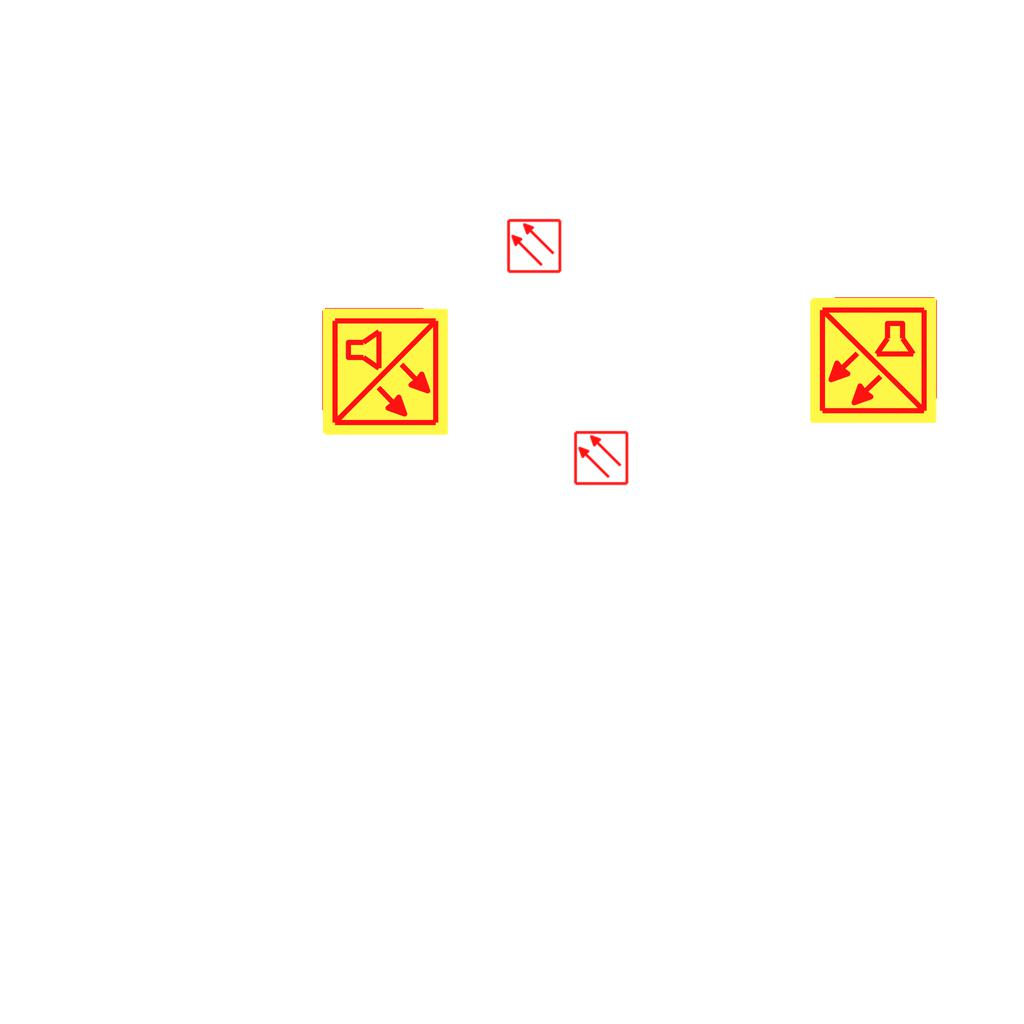OKW_Multisensormelder_(Kombination_optischer_Rauch-Kahlenmonoxid_Waerme-Melder): (319, 306, 451, 438), (807, 294, 939, 426)
RMO_Rauchmelder_optischer: (573, 430, 629, 486), (506, 218, 562, 274)
